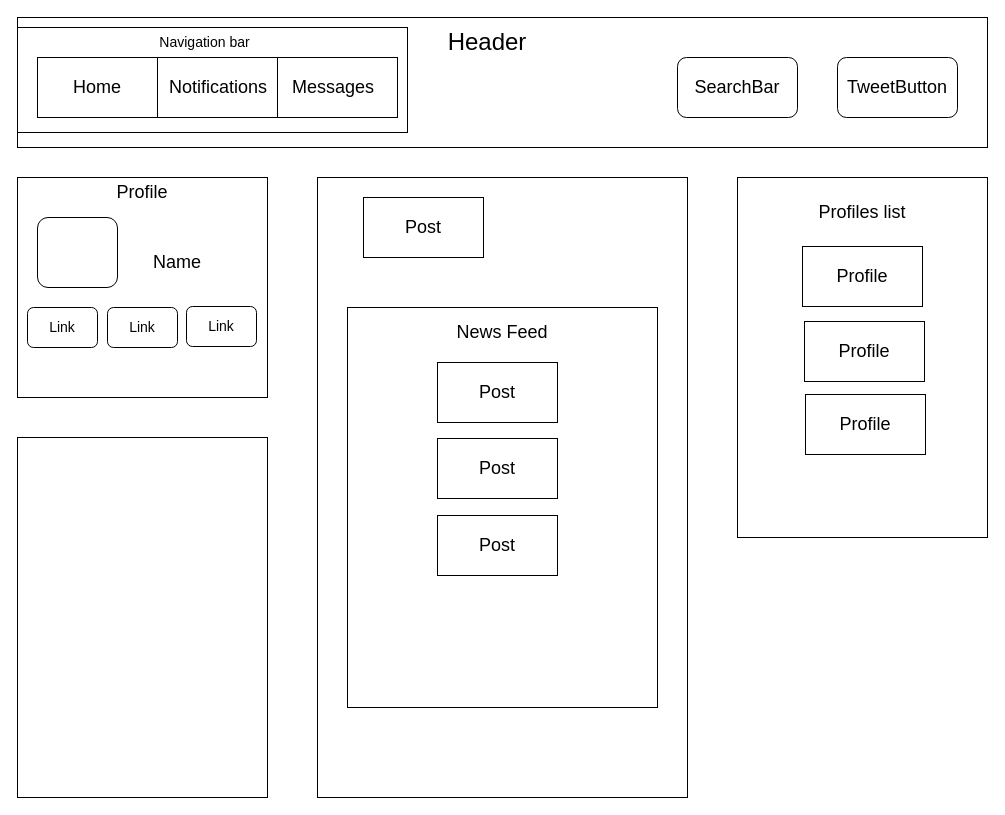
Some shapes in this 1005 by 815 pixel diagram are drawn without their labels. Each missing label, with the centre of its shape:
"About Me" belongs at point (142, 617).
"Profile picture" belongs at point (77, 252).
